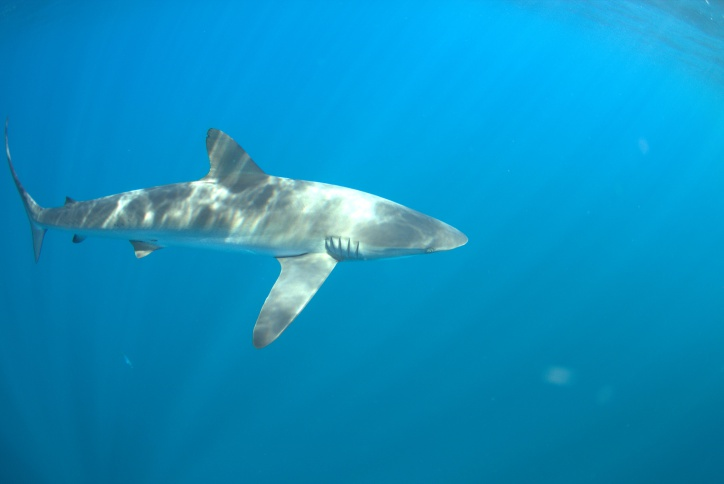Sedoso: (3, 109, 511, 357)
